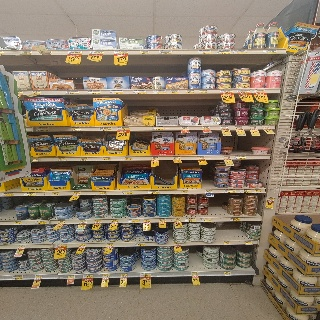All PRICE TAGS: (2, 192, 14, 197), (159, 50, 173, 54), (68, 50, 82, 54), (90, 50, 104, 54), (263, 49, 277, 53), (24, 192, 37, 196), (153, 90, 166, 94), (198, 50, 211, 54), (233, 49, 246, 53), (88, 90, 101, 94), (110, 90, 123, 94), (35, 127, 47, 131), (253, 89, 265, 93), (21, 50, 33, 54), (29, 90, 41, 94), (67, 90, 79, 94), (148, 190, 159, 194), (101, 127, 112, 131), (219, 50, 230, 54), (83, 274, 93, 278), (135, 242, 145, 246), (57, 243, 67, 247), (129, 219, 139, 223), (225, 189, 235, 193), (236, 155, 246, 159), (57, 157, 67, 161), (13, 275, 23, 279), (115, 51, 128, 54), (242, 189, 251, 193), (98, 191, 107, 195), (79, 157, 88, 161), (262, 125, 271, 129), (72, 127, 81, 131), (238, 90, 250, 93), (170, 90, 179, 94), (141, 50, 150, 54), (220, 90, 232, 93), (122, 191, 133, 194), (118, 127, 129, 130), (35, 221, 46, 224), (134, 90, 145, 93), (223, 271, 231, 275), (120, 273, 128, 277), (244, 240, 252, 244), (180, 189, 188, 193), (73, 191, 81, 195), (173, 156, 181, 160), (249, 125, 257, 129), (235, 125, 243, 129), (181, 126, 189, 130), (14, 221, 22, 225), (199, 89, 207, 93), (141, 273, 151, 276), (201, 218, 211, 221), (153, 127, 163, 130), (191, 272, 198, 276), (223, 240, 230, 244), (143, 218, 150, 222), (35, 275, 42, 279), (268, 197, 275, 201), (102, 274, 111, 277), (230, 218, 239, 221), (185, 218, 194, 221), (50, 192, 59, 195), (124, 157, 133, 160), (223, 156, 231, 159), (67, 275, 75, 278), (173, 218, 181, 221), (111, 219, 119, 222), (79, 220, 87, 223), (205, 190, 213, 193), (197, 156, 205, 159), (151, 157, 159, 160), (102, 157, 110, 160), (202, 126, 210, 129), (255, 189, 263, 192), (186, 90, 194, 93), (174, 242, 181, 245), (106, 243, 113, 246), (79, 243, 86, 246), (159, 218, 166, 221), (94, 220, 101, 223), (58, 220, 65, 223), (221, 126, 228, 129), (31, 158, 38, 161), (18, 245, 25, 248), (18, 91, 23, 95), (204, 241, 210, 244)
